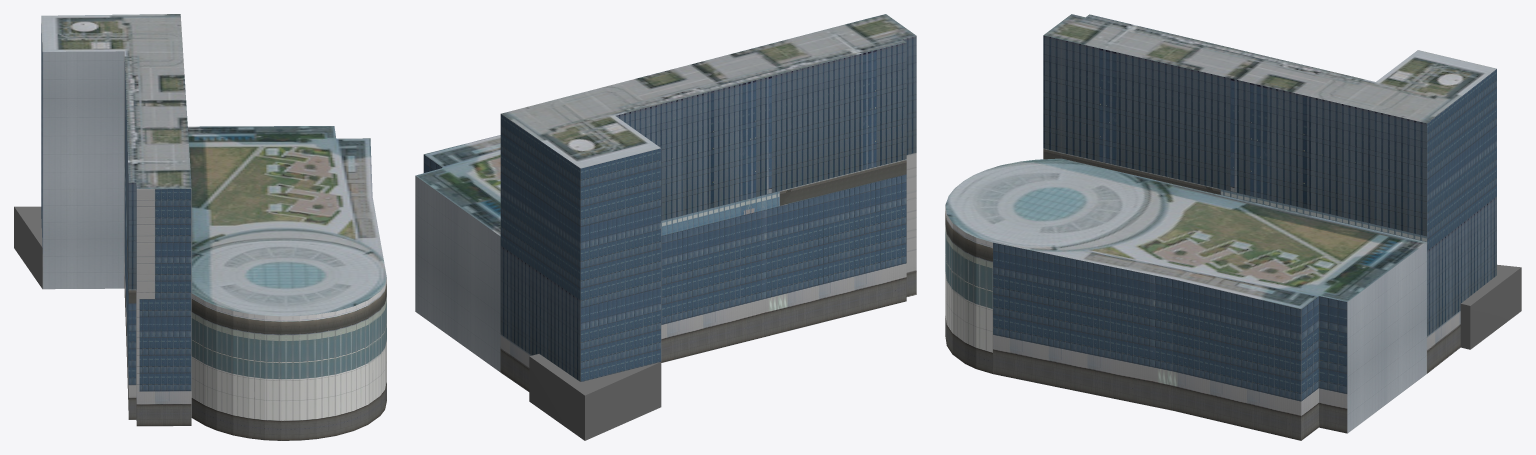
File: gov-3.glb
The picture shows the model from 3 angles, left to right: view 1: azimuth 30°, elevation 25°; view 2: azimuth 150°, elevation 25°; view 3: azimuth 270°, elevation 25°; orthographic projection. The views are drawn at different scales.
Visible parts, largest first — view 1: B351661581701062A0; view 2: B351661581701062A0; view 3: B351661581701062A0.
Boxes of the visible parts, x1=… form: B351661581701062A0: x1=14, y1=14, x2=386, y2=440; B351661581701062A0: x1=415, y1=14, x2=916, y2=440; B351661581701062A0: x1=945, y1=14, x2=1521, y2=440.
Bounding box in the file's own units: 94.94 × 62.8 × 131.
Materials: 1 (1 with a texture image).
